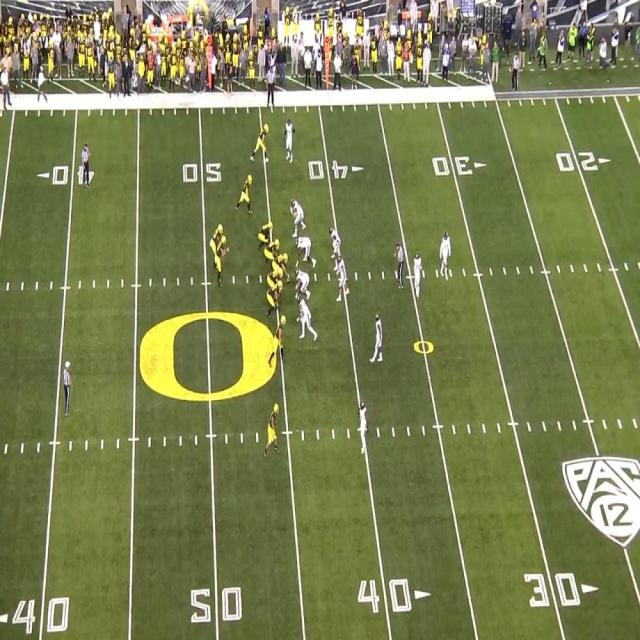center: (272, 250, 292, 282)
db: (354, 399, 368, 460), (280, 119, 298, 161), (412, 253, 426, 299), (440, 230, 452, 275), (373, 313, 383, 360)
lb: (335, 257, 351, 305)
qb: (216, 237, 226, 291)
